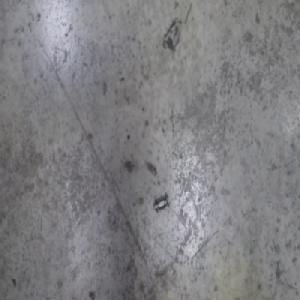Bolt: (152, 191, 169, 212)
